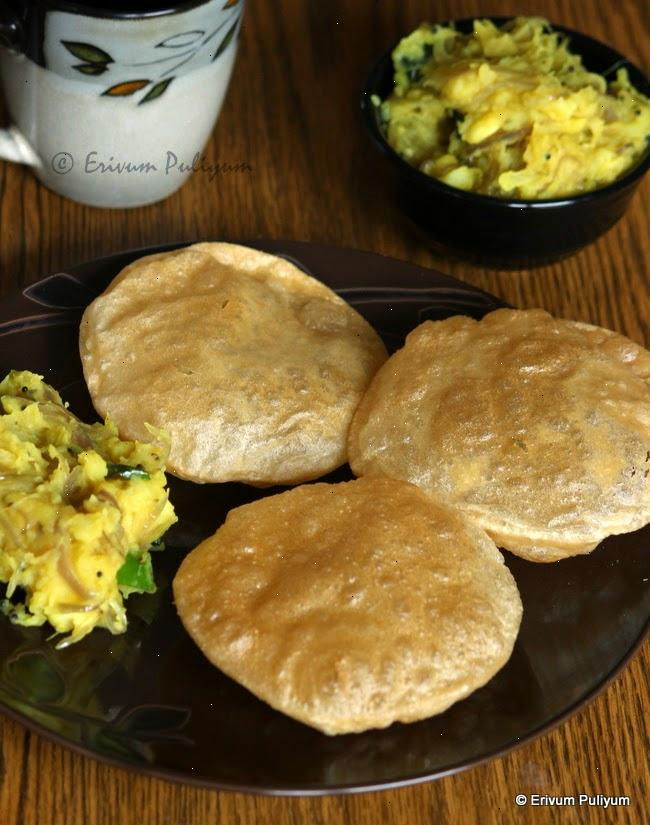puri: (168, 260, 650, 724)
